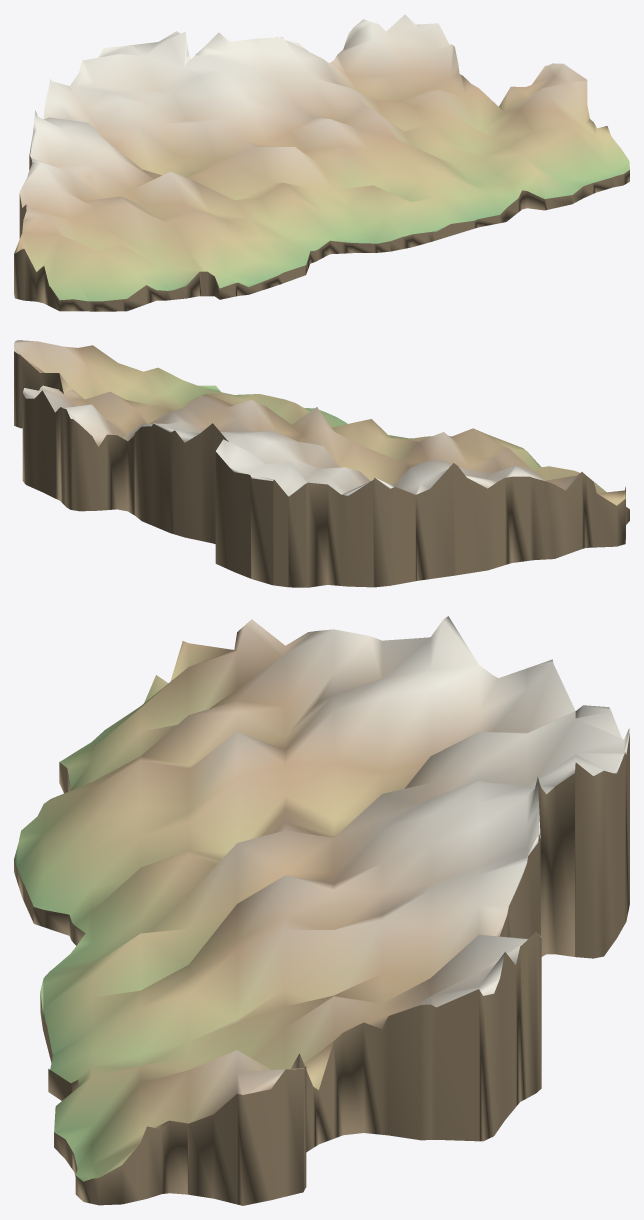
The model's file is BTN.glb.
The picture shows the model from 3 angles, top to bottom: view 1: azimuth 30°, elevation 25°; view 2: azimuth 150°, elevation 25°; view 3: azimuth 270°, elevation 25°; orthographic projection. The views are drawn at different scales.
Parts seen in each view (by area): view 1: BTN; view 2: BTN; view 3: BTN.
Boxes of the visible parts, x1=… form: BTN: x1=14, y1=14, x2=629, y2=311; BTN: x1=14, y1=340, x2=629, y2=587; BTN: x1=14, y1=616, x2=629, y2=1205.
Size of the model in its own units: 1.75 by 0.338 by 0.9491.
